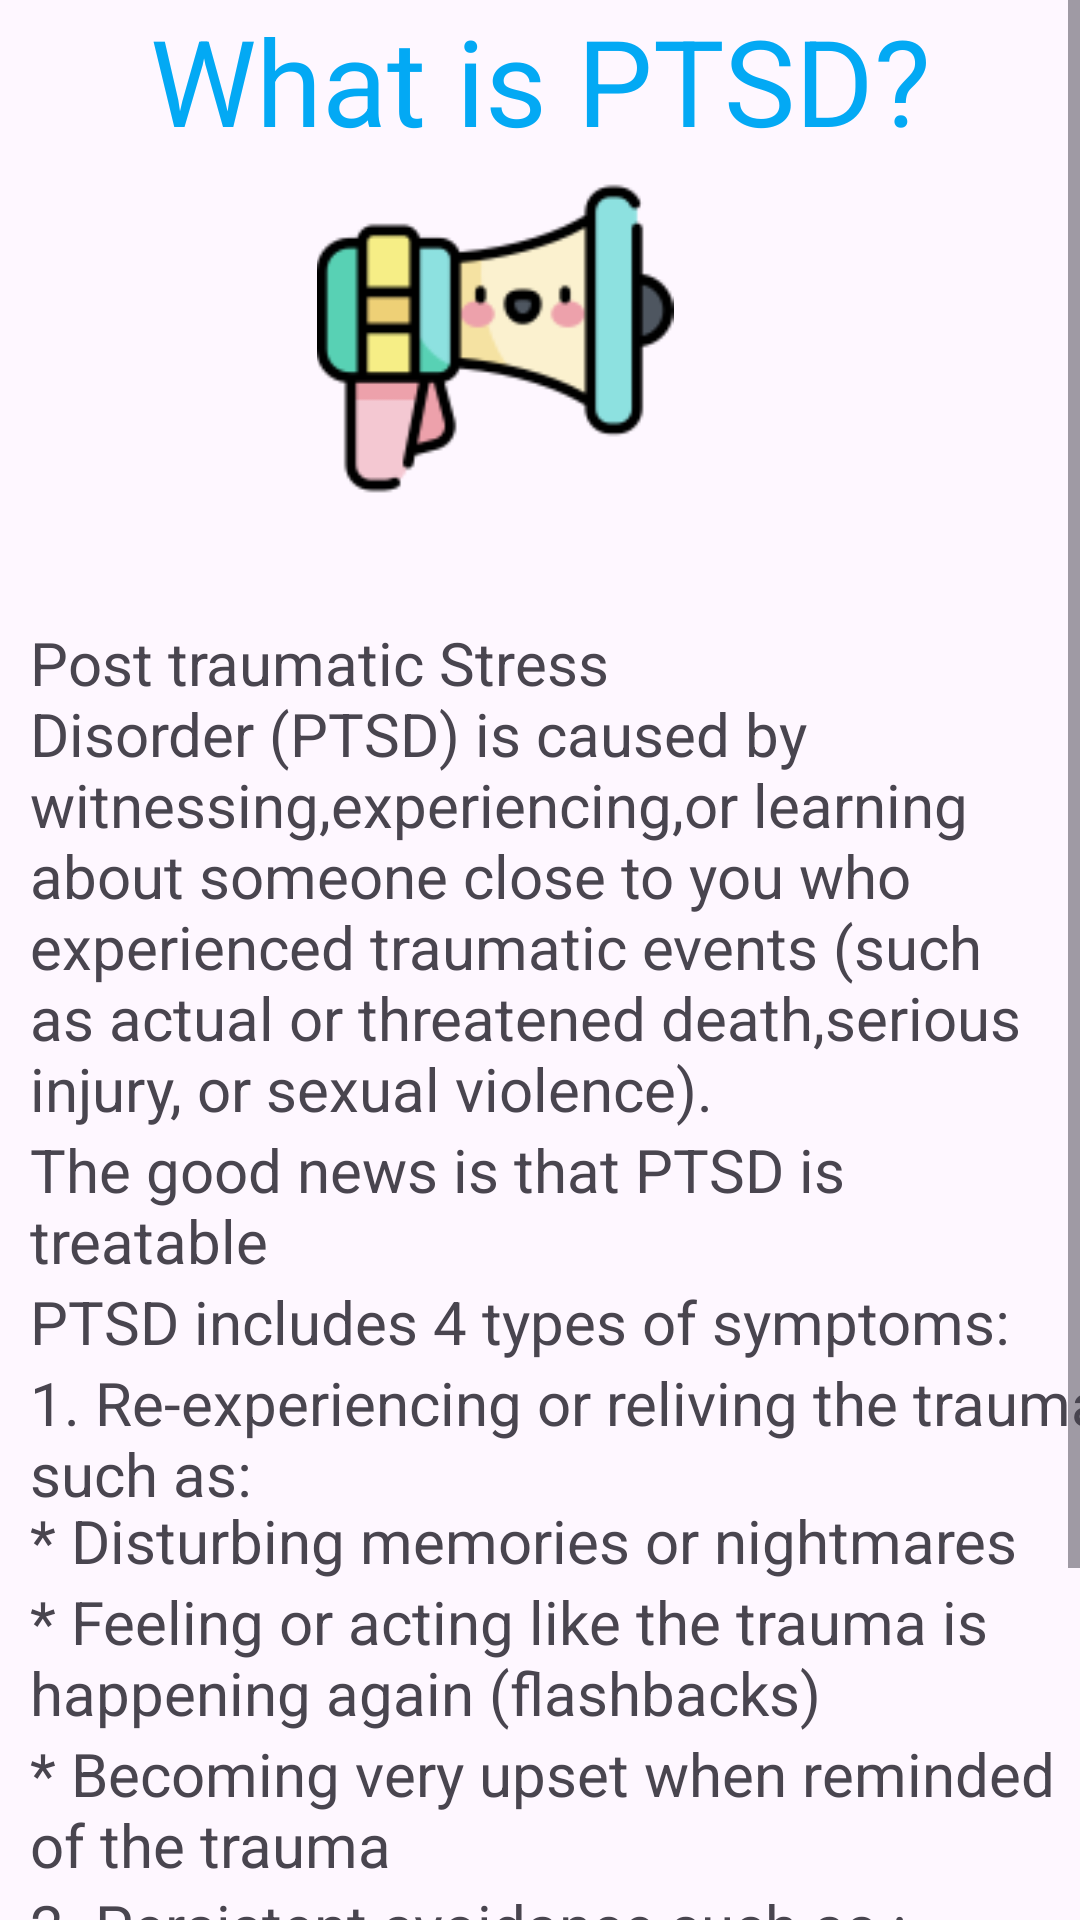

Where icons sit on this 1080×1920 app screen, as (left=x1, top=y1, right=x2, bottom=y2):
aware: (left=317, top=184, right=674, bottom=493)
